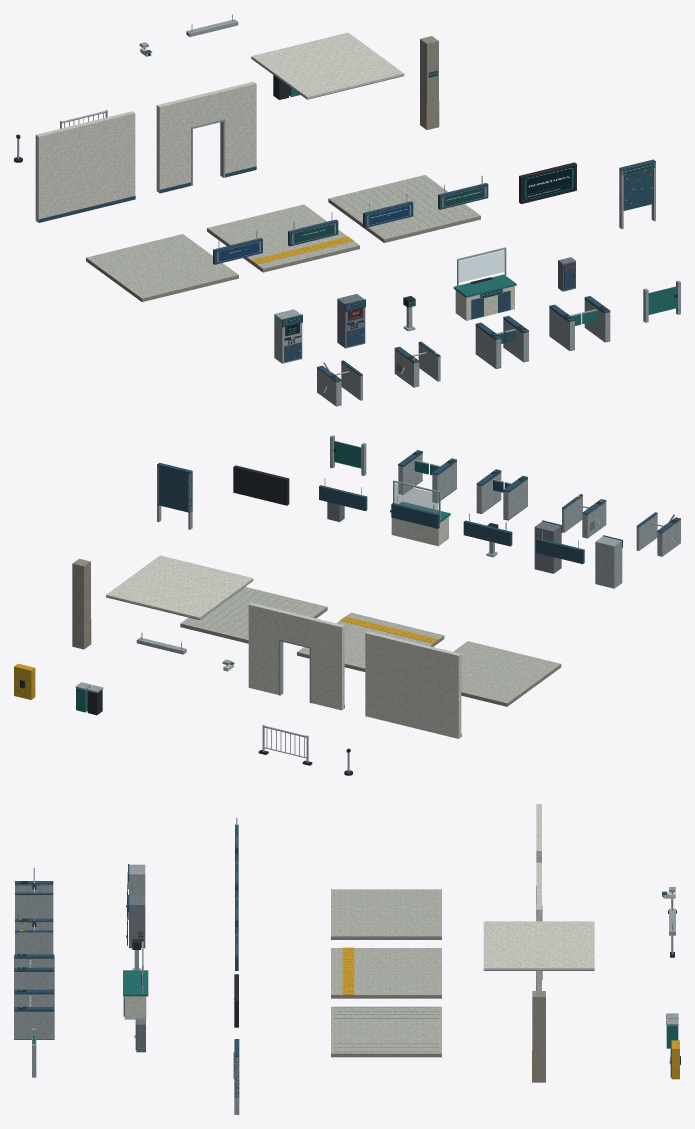
File: PROJECT_Z_Metro_Turnstiles_and_Ticket_Hall.glb
The picture shows the model from 3 angles, top to bottom: view 1: azimuth 30°, elevation 25°; view 2: azimuth 150°, elevation 25°; view 3: azimuth 270°, elevation 25°; orthographic projection. The views are drawn at different scales.
Visible parts, largest first — view 1: PART_CONCOURSE_WALL_4M_SOLID__RENDER_Plaster_Blockwork, PART_CONCOURSE_WALL_4M_DOORWAY__RENDER_Plaster_Blockwork_Pie (×2), PART_SUSPENDED_CEILING_TILE_4M__RENDER_Ceiling_Slab, PART_CONCOURSE_FLOOR_CLEAN__RENDER_Walkable_Tile_Finish, PART_CONCOURSE_FLOOR_WORN__RENDER_Walkable_Tile_Finish, PART_CONCOURSE_FLOOR_TACTILE__RENDER_Walkable_Tile_Finish, PART_CONCOURSE_COLUMN__RENDER_Concrete_Column_Shell, PART_NETWORK_MAP_BOARD__RENDER_Map_Backing, PART_TRIPOD_DAMAGED__RENDER_Left_Cabinet, PART_DEPARTURES_DISPLAY__RENDER_Departures_Live_Screen, PART_TRIPOD_STANDARD__RENDER_Left_Cabinet, PART_TICKET_ASSISTANCE_COUNTER_2M__RENDER_Protective_Glass_T (+14 smaller); view 2: PART_CONCOURSE_WALL_4M_SOLID__RENDER_Plaster_Blockwork, PART_CONCOURSE_WALL_4M_DOORWAY__RENDER_Plaster_Blockwork_Pie (×2), PART_SUSPENDED_CEILING_TILE_4M__RENDER_Ceiling_Slab, PART_CONCOURSE_FLOOR_CLEAN__RENDER_Walkable_Tile_Finish, PART_CONCOURSE_FLOOR_WORN__RENDER_Walkable_Tile_Finish, PART_CONCOURSE_FLOOR_TACTILE__RENDER_Walkable_Tile_Finish, PART_CONCOURSE_COLUMN__RENDER_Concrete_Column_Shell, PART_DEPARTURES_DISPLAY__RENDER_Display_Chassis, PART_NETWORK_MAP_BOARD__RENDER_Map_Backing, PART_TICKET_MACHINE_STANDARD__RENDER_Main_Chassis, PART_TRIPOD_STANDARD__RENDER_Left_Cabinet, PART_TICKET_ASSISTANCE_COUNTER_2M__RENDER_Counter_Enclosure (+16 smaller); view 3: PART_SUSPENDED_CEILING_TILE_4M__RENDER_Ceiling_Slab, PART_CONCOURSE_FLOOR_CLEAN__RENDER_Walkable_Tile_Finish, PART_CONCOURSE_FLOOR_WORN__RENDER_Walkable_Tile_Finish, PART_CONCOURSE_FLOOR_TACTILE__RENDER_Walkable_Tile_Finish, PART_CONCOURSE_COLUMN__RENDER_Concrete_Column_Shell, PART_TRIPOD_STANDARD__RENDER_Left_Cabinet, PART_TRIPOD_DAMAGED__RENDER_Left_Cabinet, PART_FLAP_GATE_ACCESSIBLE__RENDER_Cabinet_RIGHT, PART_TICKET_MACHINE_DAMAGED__RENDER_Main_Chassis, PART_FLAP_GATE_STANDARD__RENDER_Cabinet_RIGHT, PART_CONCOURSE_FLOOR_WORN__RENDER_Worn_Grout_Lines, PART_TICKET_ASSISTANCE_COUNTER_2M__RENDER_Countertop (+5 smaller).
Part boxes in pixels (left/top/right/bottom): PART_CONCOURSE_WALL_4M_SOLID__RENDER_Plaster_Blockwork: left=35, top=111, right=135, bottom=222; PART_CONCOURSE_WALL_4M_DOORWAY__RENDER_Plaster_Blockwork_Pie (×2): left=156, top=81, right=256, bottom=192; PART_SUSPENDED_CEILING_TILE_4M__RENDER_Ceiling_Slab: left=251, top=32, right=404, bottom=98; PART_CONCOURSE_FLOOR_CLEAN__RENDER_Walkable_Tile_Finish: left=86, top=234, right=238, bottom=298; PART_CONCOURSE_FLOOR_WORN__RENDER_Walkable_Tile_Finish: left=328, top=175, right=480, bottom=239; PART_CONCOURSE_FLOOR_TACTILE__RENDER_Walkable_Tile_Finish: left=207, top=204, right=359, bottom=268; PART_CONCOURSE_COLUMN__RENDER_Concrete_Column_Shell: left=420, top=36, right=438, bottom=129; PART_NETWORK_MAP_BOARD__RENDER_Map_Backing: left=619, top=159, right=655, bottom=210; PART_TRIPOD_DAMAGED__RENDER_Left_Cabinet: left=394, top=343, right=440, bottom=387; PART_DEPARTURES_DISPLAY__RENDER_Departures_Live_Screen: left=523, top=166, right=574, bottom=200; PART_TRIPOD_STANDARD__RENDER_Left_Cabinet: left=317, top=362, right=362, bottom=406; PART_TICKET_ASSISTANCE_COUNTER_2M__RENDER_Protective_Glass_T: left=458, top=250, right=504, bottom=282; PART_CONCOURSE_WALL_4M_SOLID__RENDER_Plaster_Blockwork: left=365, top=631, right=461, bottom=738; PART_CONCOURSE_WALL_4M_DOORWAY__RENDER_Plaster_Blockwork_Pie (×2): left=248, top=602, right=344, bottom=710; PART_SUSPENDED_CEILING_TILE_4M__RENDER_Ceiling_Slab: left=106, top=555, right=253, bottom=619; PART_CONCOURSE_FLOOR_CLEAN__RENDER_Walkable_Tile_Finish: left=453, top=641, right=560, bottom=703; PART_CONCOURSE_FLOOR_WORN__RENDER_Walkable_Tile_Finish: left=180, top=587, right=327, bottom=640; PART_CONCOURSE_FLOOR_TACTILE__RENDER_Walkable_Tile_Finish: left=297, top=612, right=444, bottom=668; PART_CONCOURSE_COLUMN__RENDER_Concrete_Column_Shell: left=72, top=558, right=90, bottom=649; PART_DEPARTURES_DISPLAY__RENDER_Display_Chassis: left=233, top=465, right=289, bottom=505; PART_NETWORK_MAP_BOARD__RENDER_Map_Backing: left=157, top=462, right=192, bottom=512; PART_TICKET_MACHINE_STANDARD__RENDER_Main_Chassis: left=595, top=536, right=622, bottom=588; PART_TRIPOD_STANDARD__RENDER_Left_Cabinet: left=636, top=514, right=680, bottom=556; PART_TICKET_ASSISTANCE_COUNTER_2M__RENDER_Counter_Enclosure: left=391, top=516, right=448, bottom=546; PART_SUSPENDED_CEILING_TILE_4M__RENDER_Ceiling_Slab: left=483, top=921, right=594, bottom=970; PART_CONCOURSE_FLOOR_CLEAN__RENDER_Walkable_Tile_Finish: left=331, top=889, right=441, bottom=936; PART_CONCOURSE_FLOOR_WORN__RENDER_Walkable_Tile_Finish: left=331, top=1006, right=441, bottom=1053; PART_CONCOURSE_FLOOR_TACTILE__RENDER_Walkable_Tile_Finish: left=331, top=948, right=441, bottom=995; PART_CONCOURSE_COLUMN__RENDER_Concrete_Column_Shell: left=532, top=991, right=545, bottom=1082; PART_TRIPOD_STANDARD__RENDER_Left_Cabinet: left=15, top=884, right=53, bottom=918; PART_TRIPOD_DAMAGED__RENDER_Left_Cabinet: left=15, top=922, right=53, bottom=954; PART_FLAP_GATE_ACCESSIBLE__RENDER_Cabinet_RIGHT: left=14, top=1009, right=54, bottom=1038; PART_TICKET_MACHINE_DAMAGED__RENDER_Main_Chassis: left=129, top=895, right=145, bottom=948; PART_FLAP_GATE_STANDARD__RENDER_Cabinet_RIGHT: left=14, top=969, right=54, bottom=990; PART_CONCOURSE_FLOOR_WORN__RENDER_Worn_Grout_Lines: left=334, top=1007, right=438, bottom=1051; PART_TICKET_ASSISTANCE_COUNTER_2M__RENDER_Countertop: left=123, top=970, right=148, bottom=996.
Size of the model in its own units: 19.21 by 3.86 by 24.04.
Materials: 13 (12 with a texture image).
